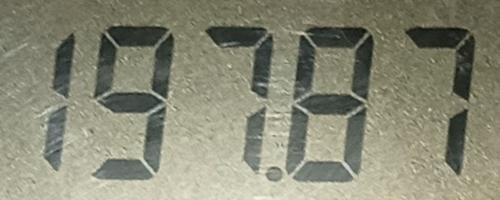.: (265, 164, 283, 184)
